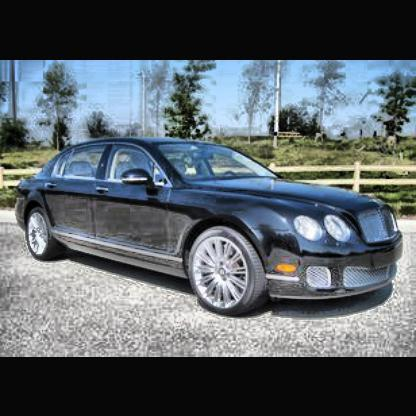Bentley Continental Flying Spur Sedan 2007: (17, 138, 401, 318)
